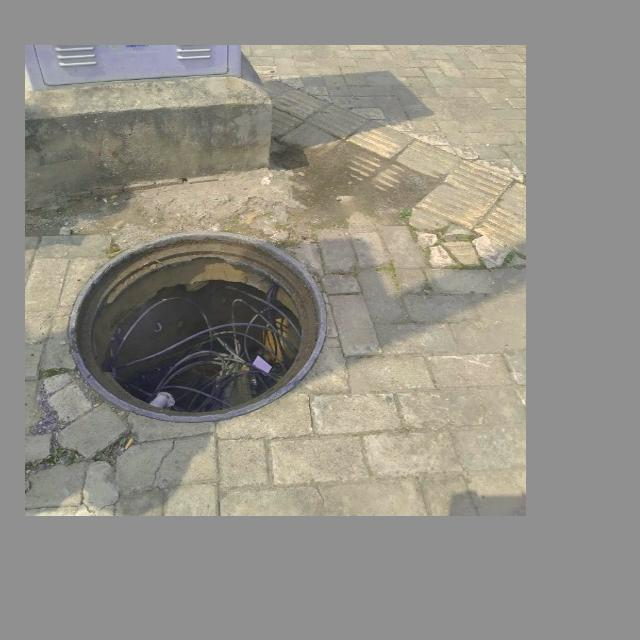lose: (67, 232, 329, 424)
